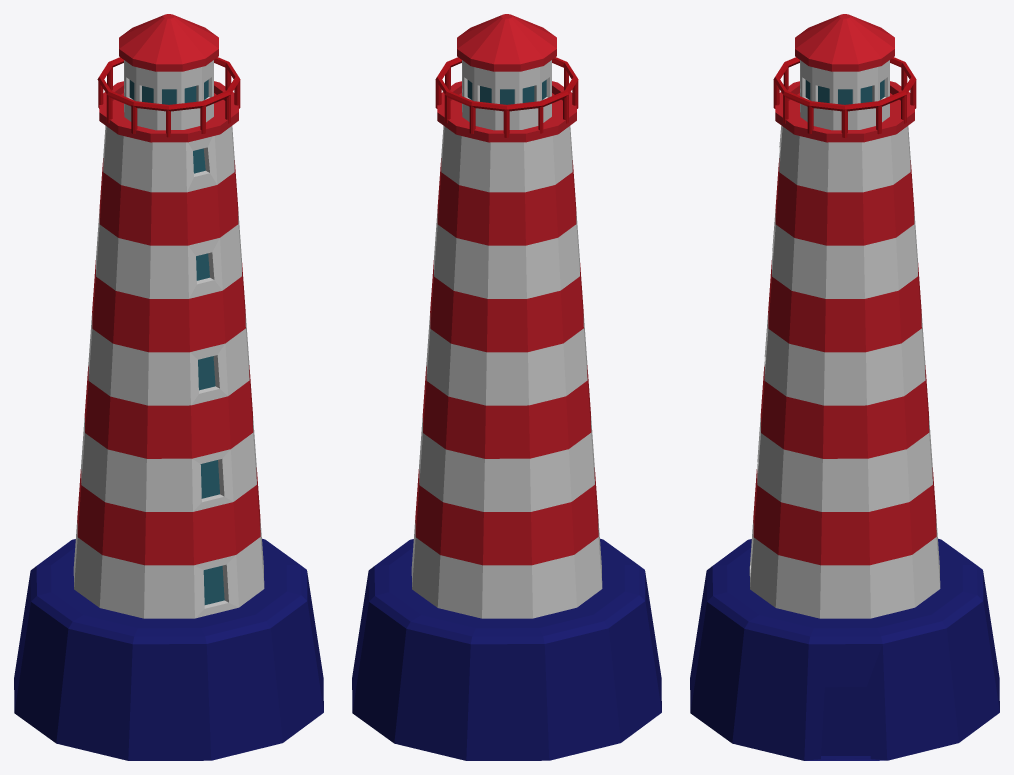
Rendered from Mum5.glb.
3 views of the same model, side by side, from view 1: azimuth 30°, elevation 25°; view 2: azimuth 150°, elevation 25°; view 3: azimuth 270°, elevation 25° (orthographic).
Parts seen in each view (by area): view 1: Cylinder.002, Cylinder.000, Cylinder.001, Torus; view 2: Cylinder.002, Cylinder.000, Cylinder.001, Torus; view 3: Cylinder.002, Cylinder.000, Cylinder.001, Torus.
Boxes of the visible parts, left/top/right/bottom form: Cylinder.002: left=73, top=60, right=264, bottom=618; Cylinder.000: left=14, top=538, right=323, bottom=760; Cylinder.001: left=77, top=14, right=260, bottom=565; Torus: left=97, top=57, right=240, bottom=137; Cylinder.002: left=411, top=60, right=602, bottom=618; Cylinder.000: left=352, top=538, right=661, bottom=760; Cylinder.001: left=415, top=14, right=598, bottom=565; Torus: left=435, top=57, right=578, bottom=137; Cylinder.002: left=749, top=60, right=940, bottom=618; Cylinder.000: left=690, top=538, right=999, bottom=760; Cylinder.001: left=753, top=14, right=936, bottom=565; Torus: left=773, top=57, right=916, bottom=137.
Size of the model in its own units: 2.17 by 5.24 by 2.17.
